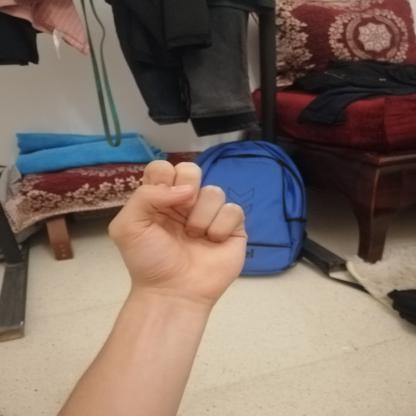QAAF: (95, 152, 262, 314)
